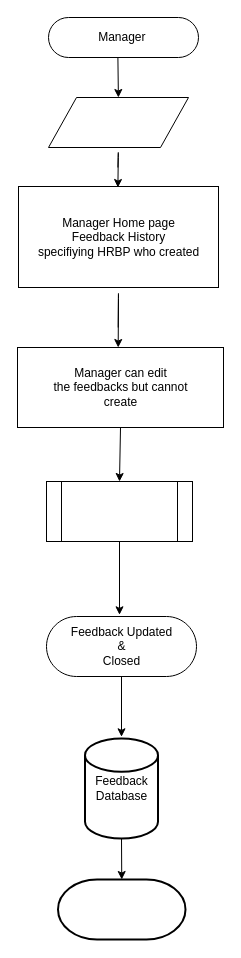
Image size: 241x958. Some labels were removed from this diagram. The shapes that lost their labels are listed below. From the top down, each one's centre as x and y in pixels, then its label:
(118,122): Login Details
(119,511): Action Items
(121,909): Process Completed
